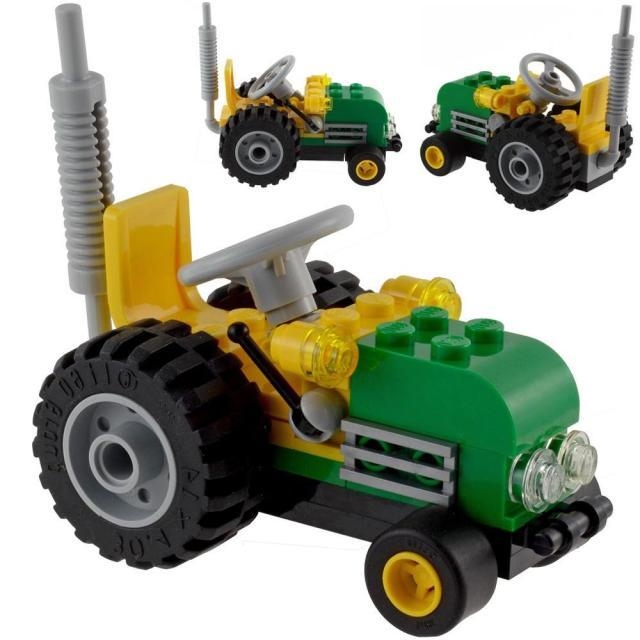Tratores - v5 YOLO V8L 2024-11-13: (6, 198, 615, 636), (419, 6, 636, 214), (198, 2, 402, 190)
